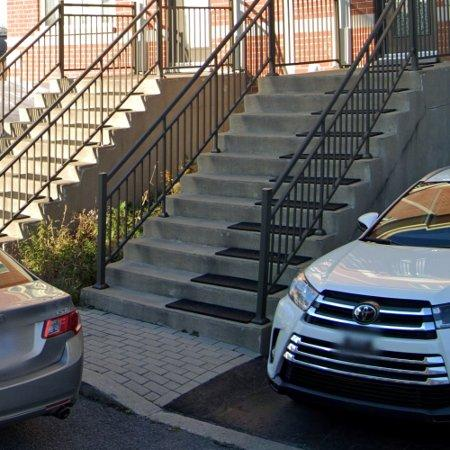stairs: (81, 0, 450, 354)
